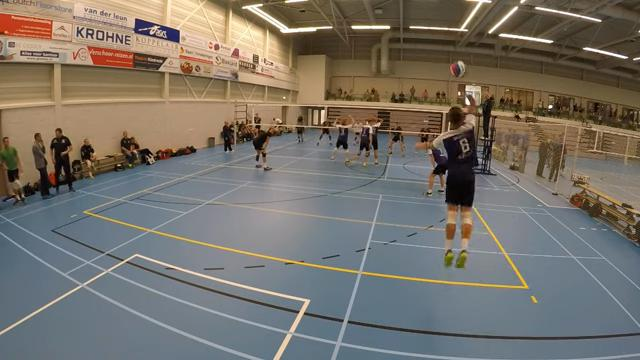Player: (331, 116, 354, 164), (425, 148, 446, 196), (253, 127, 275, 170), (358, 119, 372, 167), (368, 117, 381, 165), (389, 123, 404, 156), (414, 127, 430, 155), (317, 121, 331, 145), (296, 116, 303, 142), (353, 123, 361, 145)
Serve: (413, 87, 489, 269)
ball: (450, 62, 467, 80)
